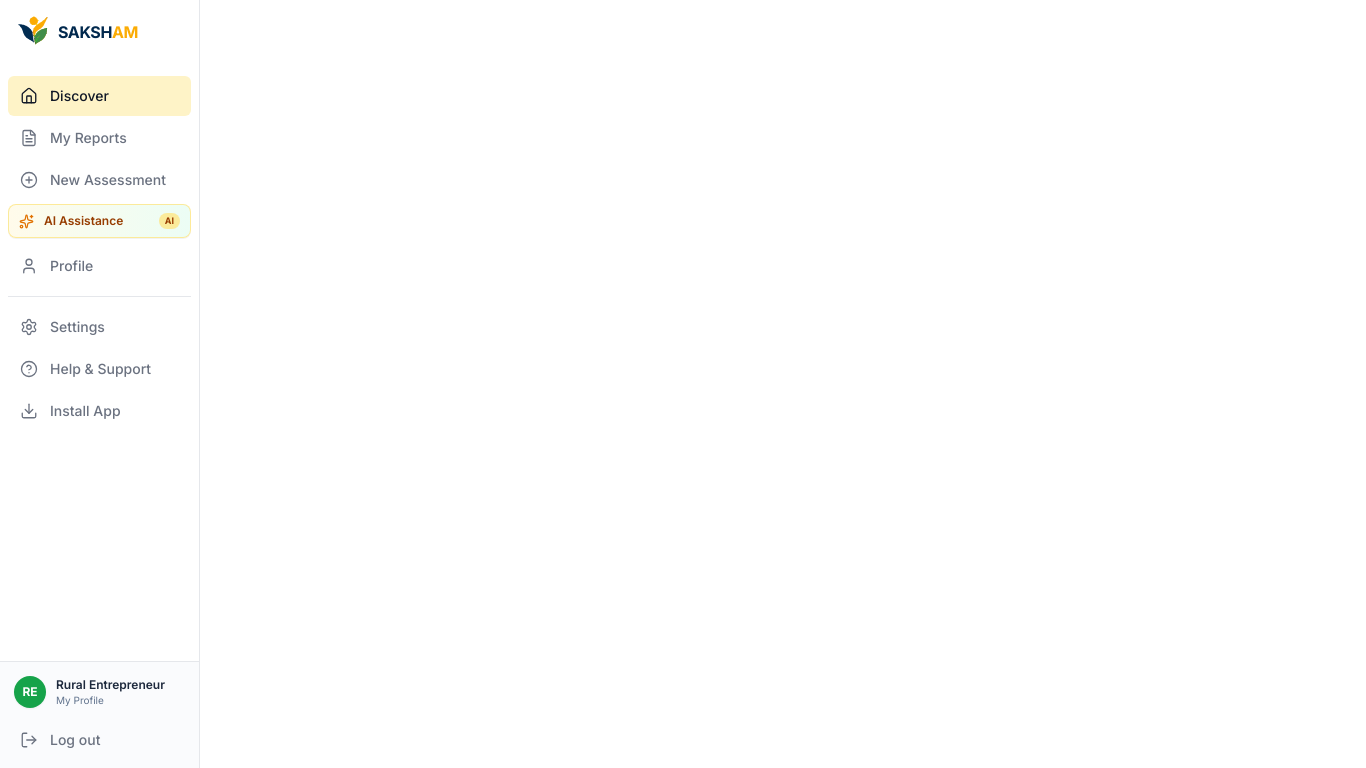
Test: Sidebar — user profile and logout modal › closes the modal when Cancel is clicked
Click the button "Log out" at x=100, y=740, box [8,720,191,760]
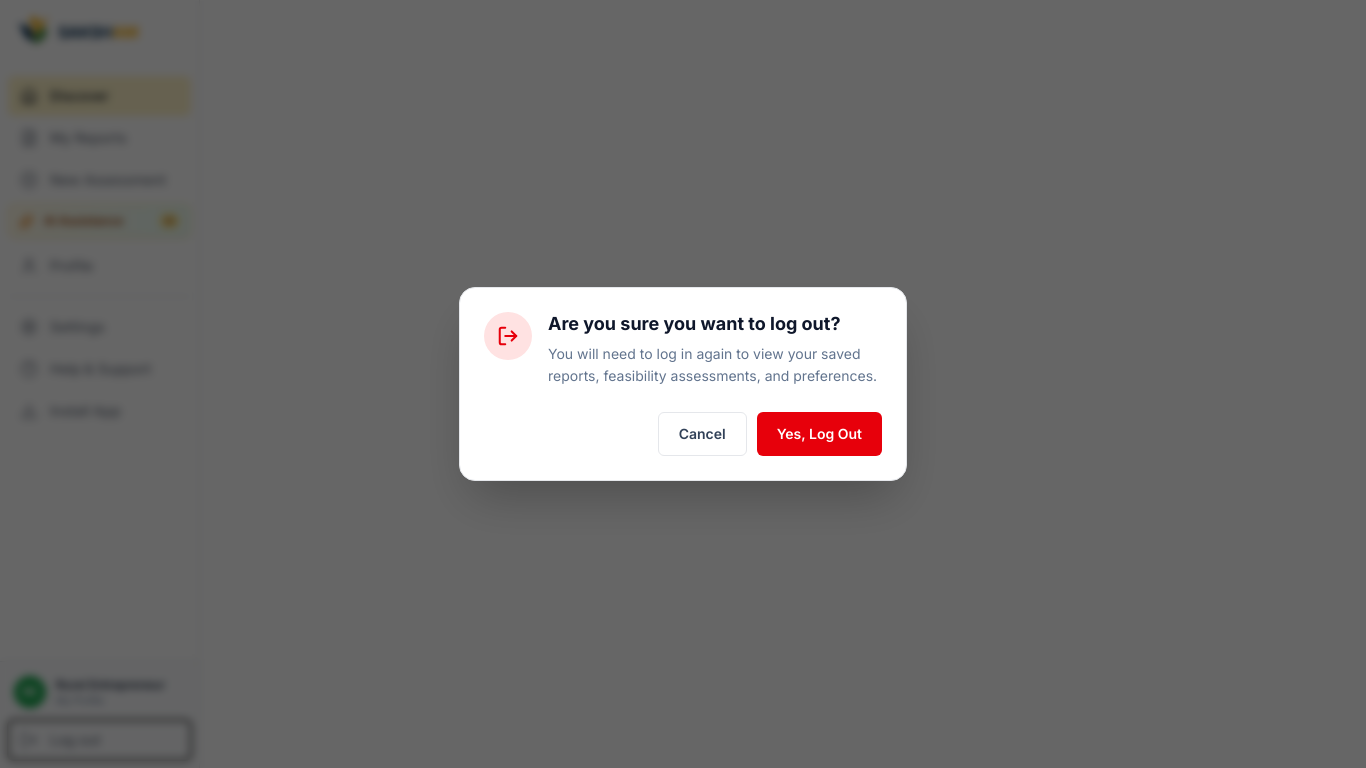
Expected: the heading "Are you sure you want to log out?" is shown, [548,312,882,337]
Click the button "Cancel" at x=702, y=434, box [658,412,747,456]
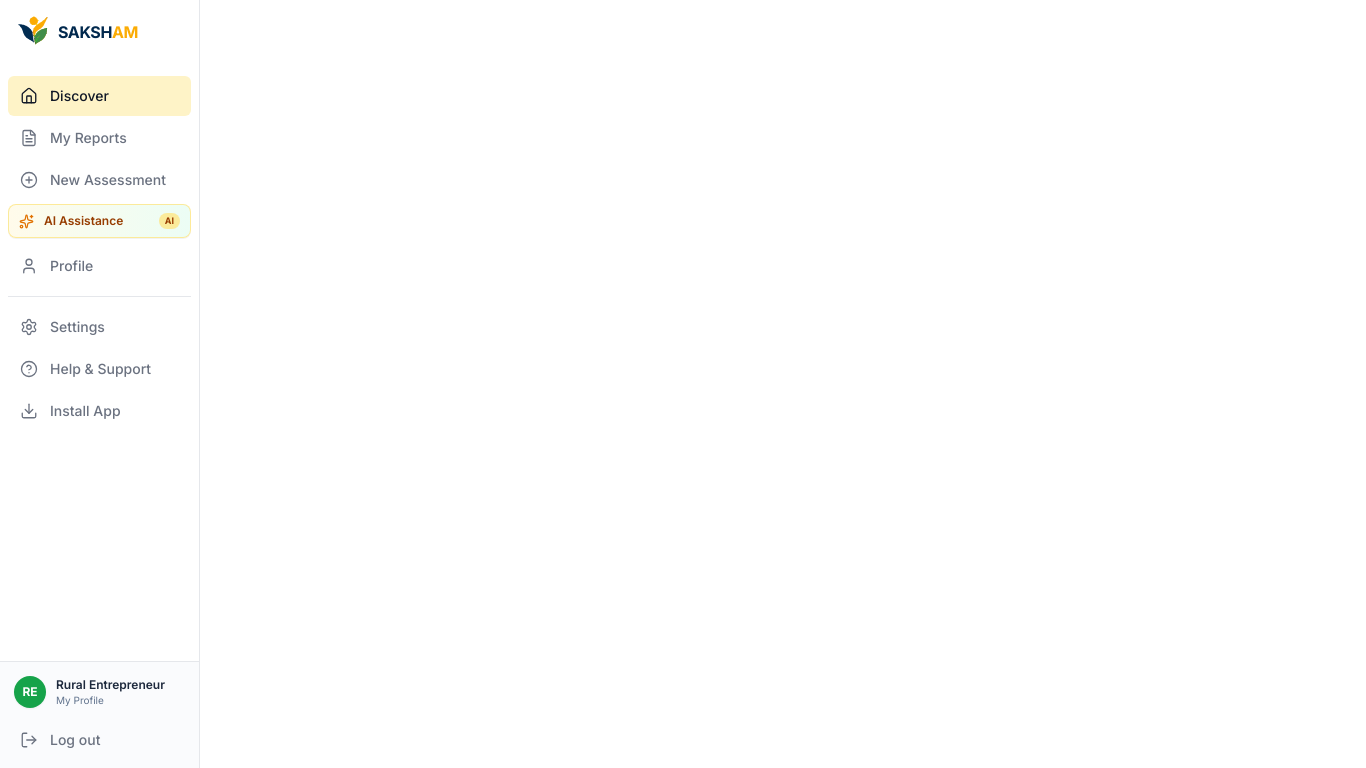
Expected: the heading "Are you sure you want to log out?" is gone
